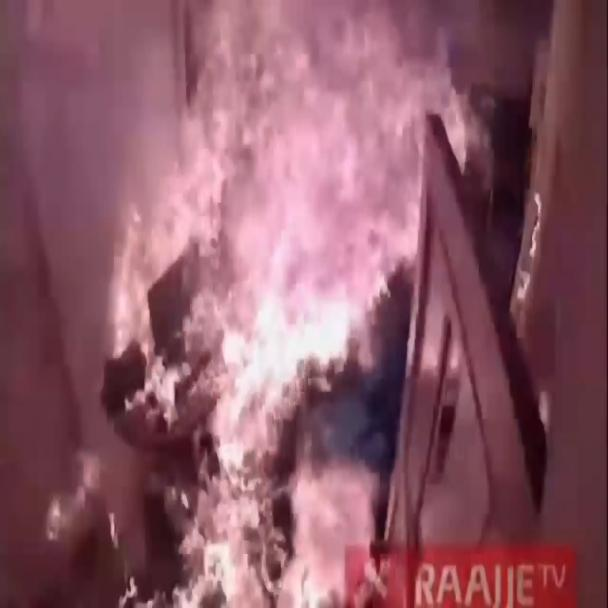Fire: (1, 4, 593, 607)
